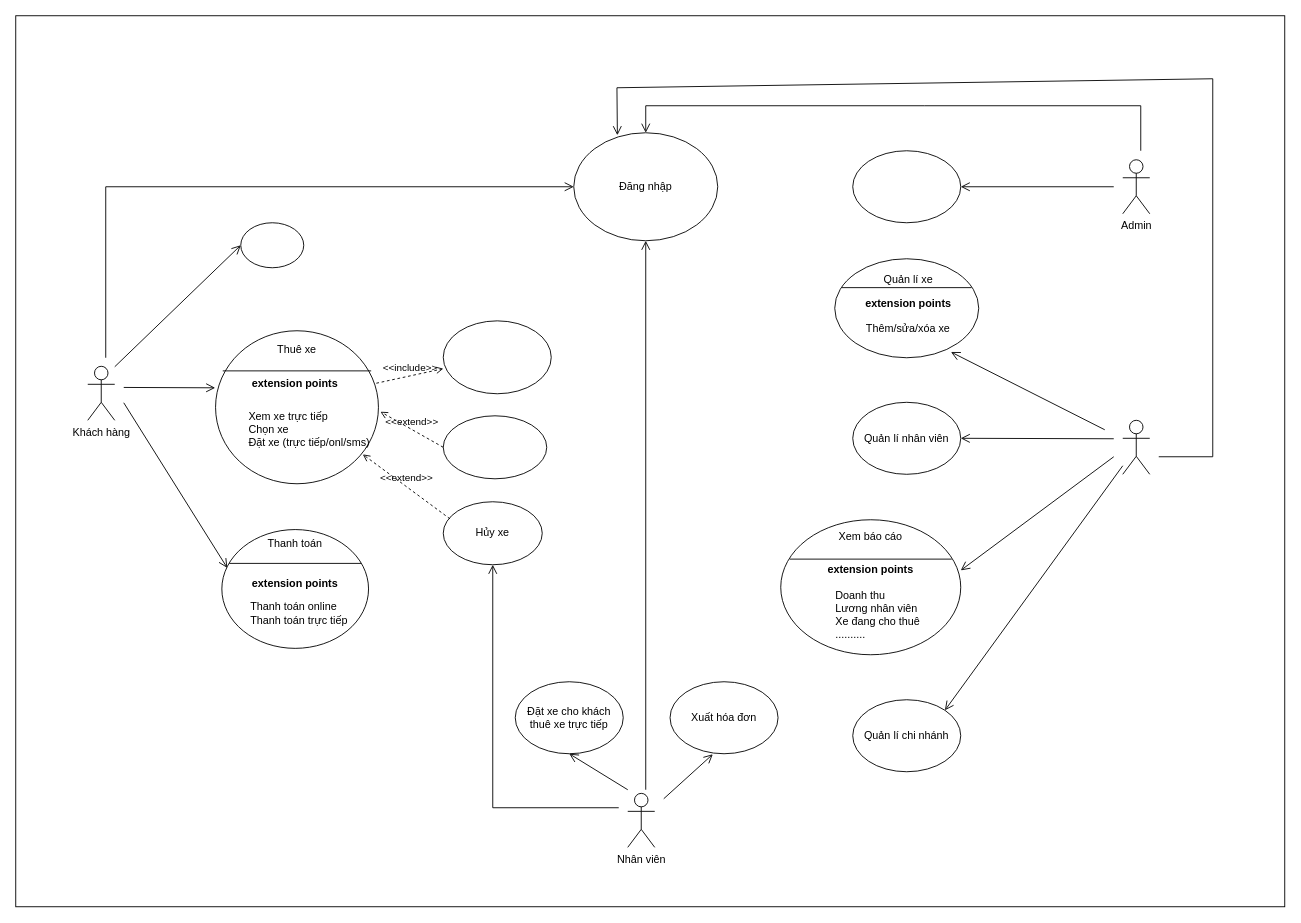
This 1301x923 diagram has some shape labels left out. Here are the shapes that lost their labels. From the top down, the centre of each, then its label:
At point (906, 186): "Quản lí người dùng".
At point (272, 245): "Đăng kí".
At point (496, 357): "Kí cam kết về điều khoản sử dụng xe".
At point (494, 447): "Thuê thêm người lái".
At point (1136, 446): "Giám đốc".
